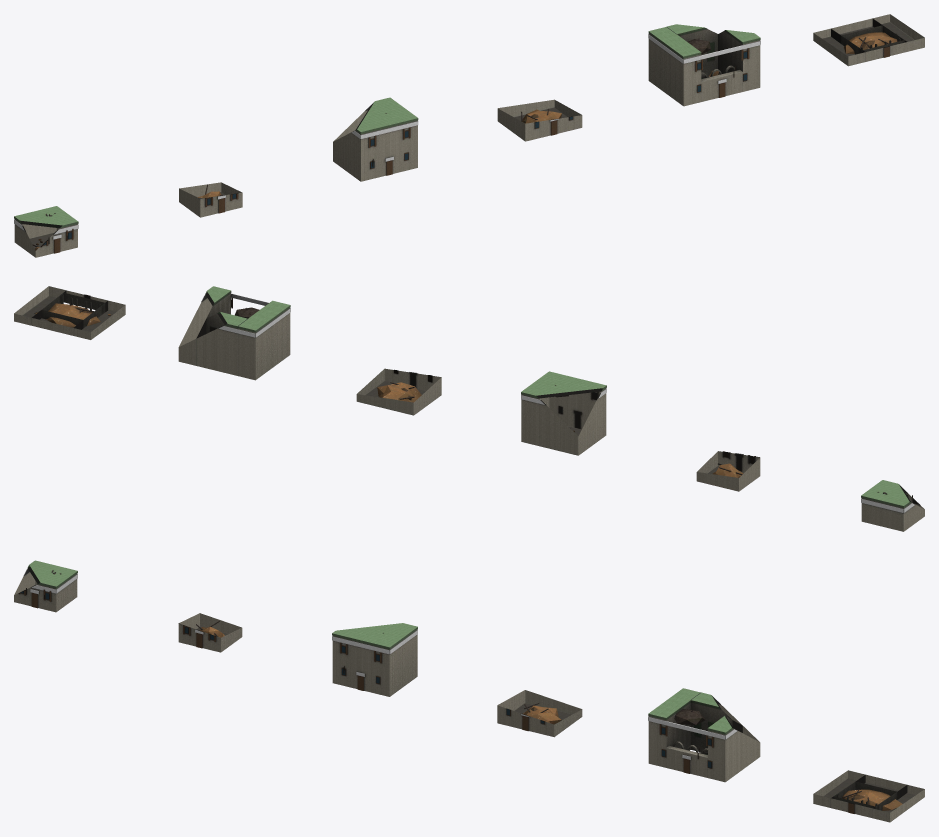
Rendered from gunpowder-maghreb-houses-damage.glb.
3 renders of one model, top to bottom at view 1: azimuth 30°, elevation 25°; view 2: azimuth 150°, elevation 25°; view 3: azimuth 330°, elevation 25°, orthographic.
Visible parts, largest first — view 1: LOD0.004, LOD0.002, LOD0.005, LOD0, LOD0.003, LOD0.001; view 2: LOD0.004, LOD0.002, LOD0.005, LOD0.003, LOD0, LOD0.001; view 3: LOD0.004, LOD0.002, LOD0.005, LOD0.003, LOD0, LOD0.001.
Boxes of the visible parts, x1=… form: LOD0.004: x1=648, y1=24, x2=760, y2=106; LOD0.002: x1=333, y1=97, x2=418, y2=181; LOD0.005: x1=813, y1=14, x2=924, y2=66; LOD0: x1=14, y1=206, x2=78, y2=257; LOD0.003: x1=497, y1=99, x2=582, y2=141; LOD0.001: x1=179, y1=182, x2=242, y2=217; LOD0.004: x1=178, y1=286, x2=290, y2=380; LOD0.002: x1=521, y1=371, x2=606, y2=455; LOD0.005: x1=14, y1=286, x2=125, y2=339; LOD0.003: x1=356, y1=368, x2=441, y2=415; LOD0: x1=861, y1=480, x2=924, y2=531; LOD0.001: x1=696, y1=451, x2=760, y2=491; LOD0.004: x1=648, y1=688, x2=760, y2=782; LOD0.002: x1=332, y1=623, x2=417, y2=696; LOD0.005: x1=813, y1=770, x2=924, y2=822; LOD0.003: x1=497, y1=690, x2=582, y2=737; LOD0: x1=14, y1=560, x2=77, y2=612; LOD0.001: x1=178, y1=613, x2=242, y2=652.
Size of what is drawn, in the model's own units: 16.1 by 0.8821 by 1.13.
2 materials, 2 textured.
